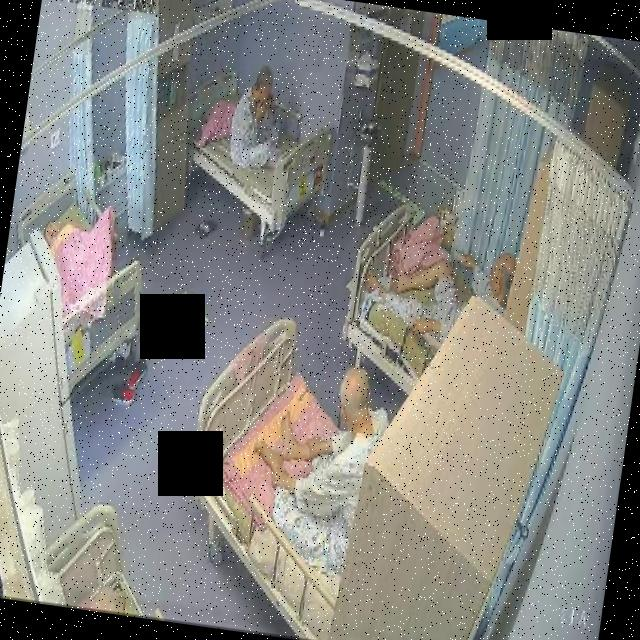bed: (169, 309, 385, 640), (0, 163, 163, 404), (336, 200, 486, 407), (180, 65, 341, 238)
lie: (359, 232, 516, 354)
patient: (240, 344, 400, 576), (358, 230, 517, 356), (224, 64, 293, 180)
sit: (242, 342, 398, 574), (226, 64, 292, 180)
